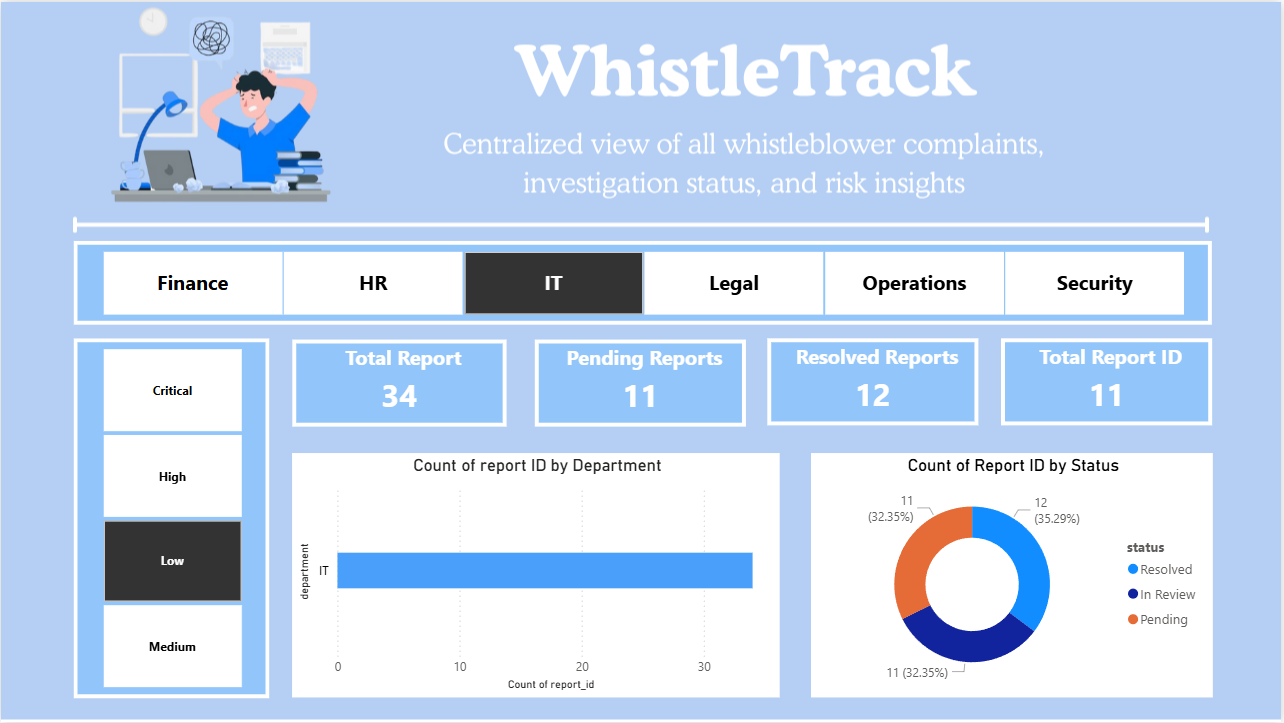

The page's visual inventory and layout, read from the dashboard file:
{"tool":"powerbi","page":{"name":"Page 1","canvas":[1280,720],"ordinal":0},"visuals":[{"type":"slicer","fields":{"Values":["Sheet1.department"]},"box":[72.9,238.6,1138.6,84.3],"z":0},{"type":"slicer","fields":{"Values":["Sheet1.priority"]},"box":[72.9,335.7,195.7,360],"z":1000},{"type":"card","title":"Total Report ","fields":{"Values":["CountNonNull(Table 1 (Sheet1).report_id)"]},"box":[291.4,337.1,214.3,87.1],"z":2000},{"type":"actionButton","box":[0,0,100,40],"z":7000},{"type":"clusteredBarChart","title":"Count of report ID by Department","fields":{"Category":["Sheet1.department"],"Y":["CountNonNull(Sheet1.report_id)"]},"box":[291.4,451.4,487.1,244.3],"z":7001},{"type":"donutChart","title":"Count of Report ID by Status","fields":{"Y":["CountNonNull(Sheet1.report_id)"],"Category":["status (Sheet1).status"]},"box":[810,451.4,401.4,244.3],"z":7002},{"type":"card","title":"Pending Reports","fields":{"Values":["Sheet1.Pending Reports"]},"box":[534.3,337.1,211.4,87.1],"z":7003},{"type":"card","title":"Resolved Reports","fields":{"Values":["Sheet1.Resolved Reports"]},"box":[765.7,335.7,211.4,87.1],"z":7004},{"type":"card","title":"Total Report ID","fields":{"Values":["Sheet1.In Review Reports"]},"box":[1000,335.7,211.4,87.1],"z":7006}]}

Visuals, with their boxes in screenshot pixels (x1, y1, x2, y2), scaled from the page's 1280x720 canvas onto the 1284x723 screenshot:
slicer - Sheet1.department: <region>73, 240, 1215, 324</region>
slicer - Sheet1.priority: <region>73, 337, 269, 699</region>
"Total Report " card: <region>292, 339, 507, 426</region>
actionButton: <region>0, 0, 100, 40</region>
"Count of report ID by Department" clusteredBarChart: <region>292, 453, 781, 699</region>
"Count of Report ID by Status" donutChart: <region>813, 453, 1215, 699</region>
"Pending Reports" card: <region>536, 339, 748, 426</region>
"Resolved Reports" card: <region>768, 337, 980, 425</region>
"Total Report ID" card: <region>1003, 337, 1215, 425</region>
